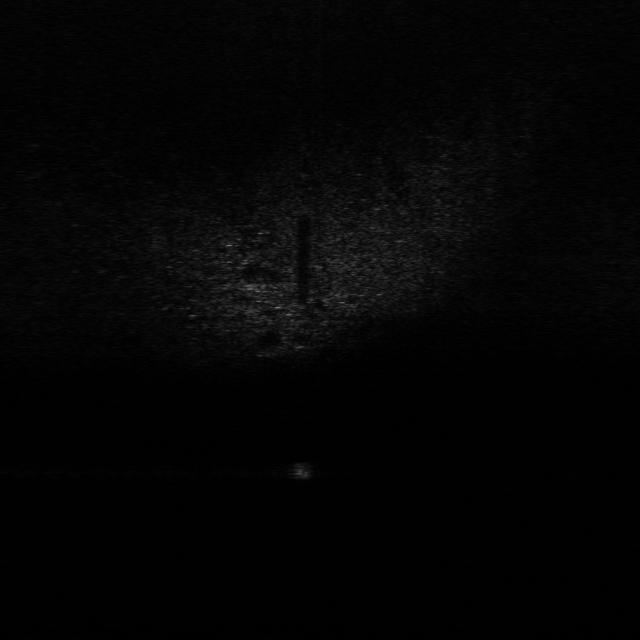cylinder: (286, 459, 316, 482)
